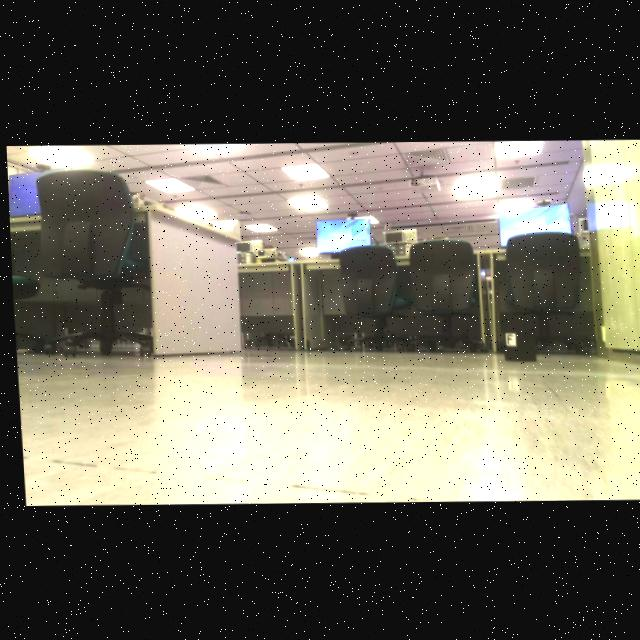F: (504, 333, 509, 343)
